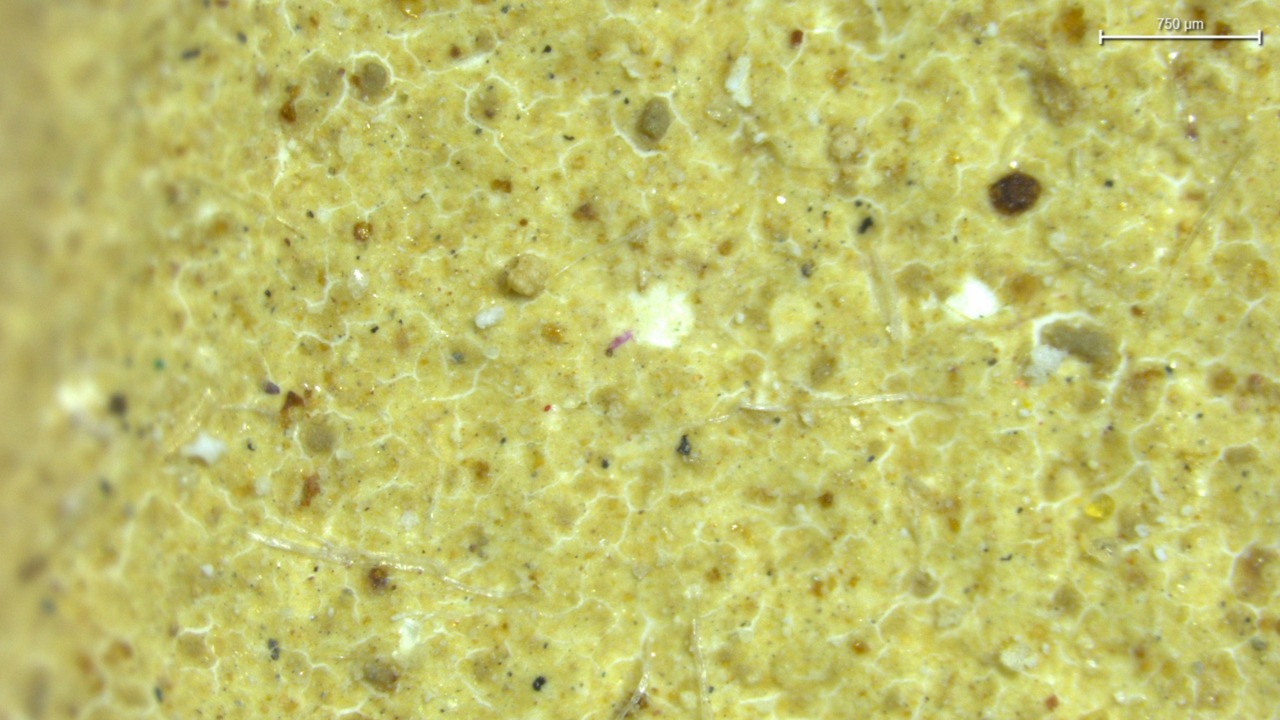microplastic_fragment: (504, 254, 549, 297), (725, 55, 751, 107)
